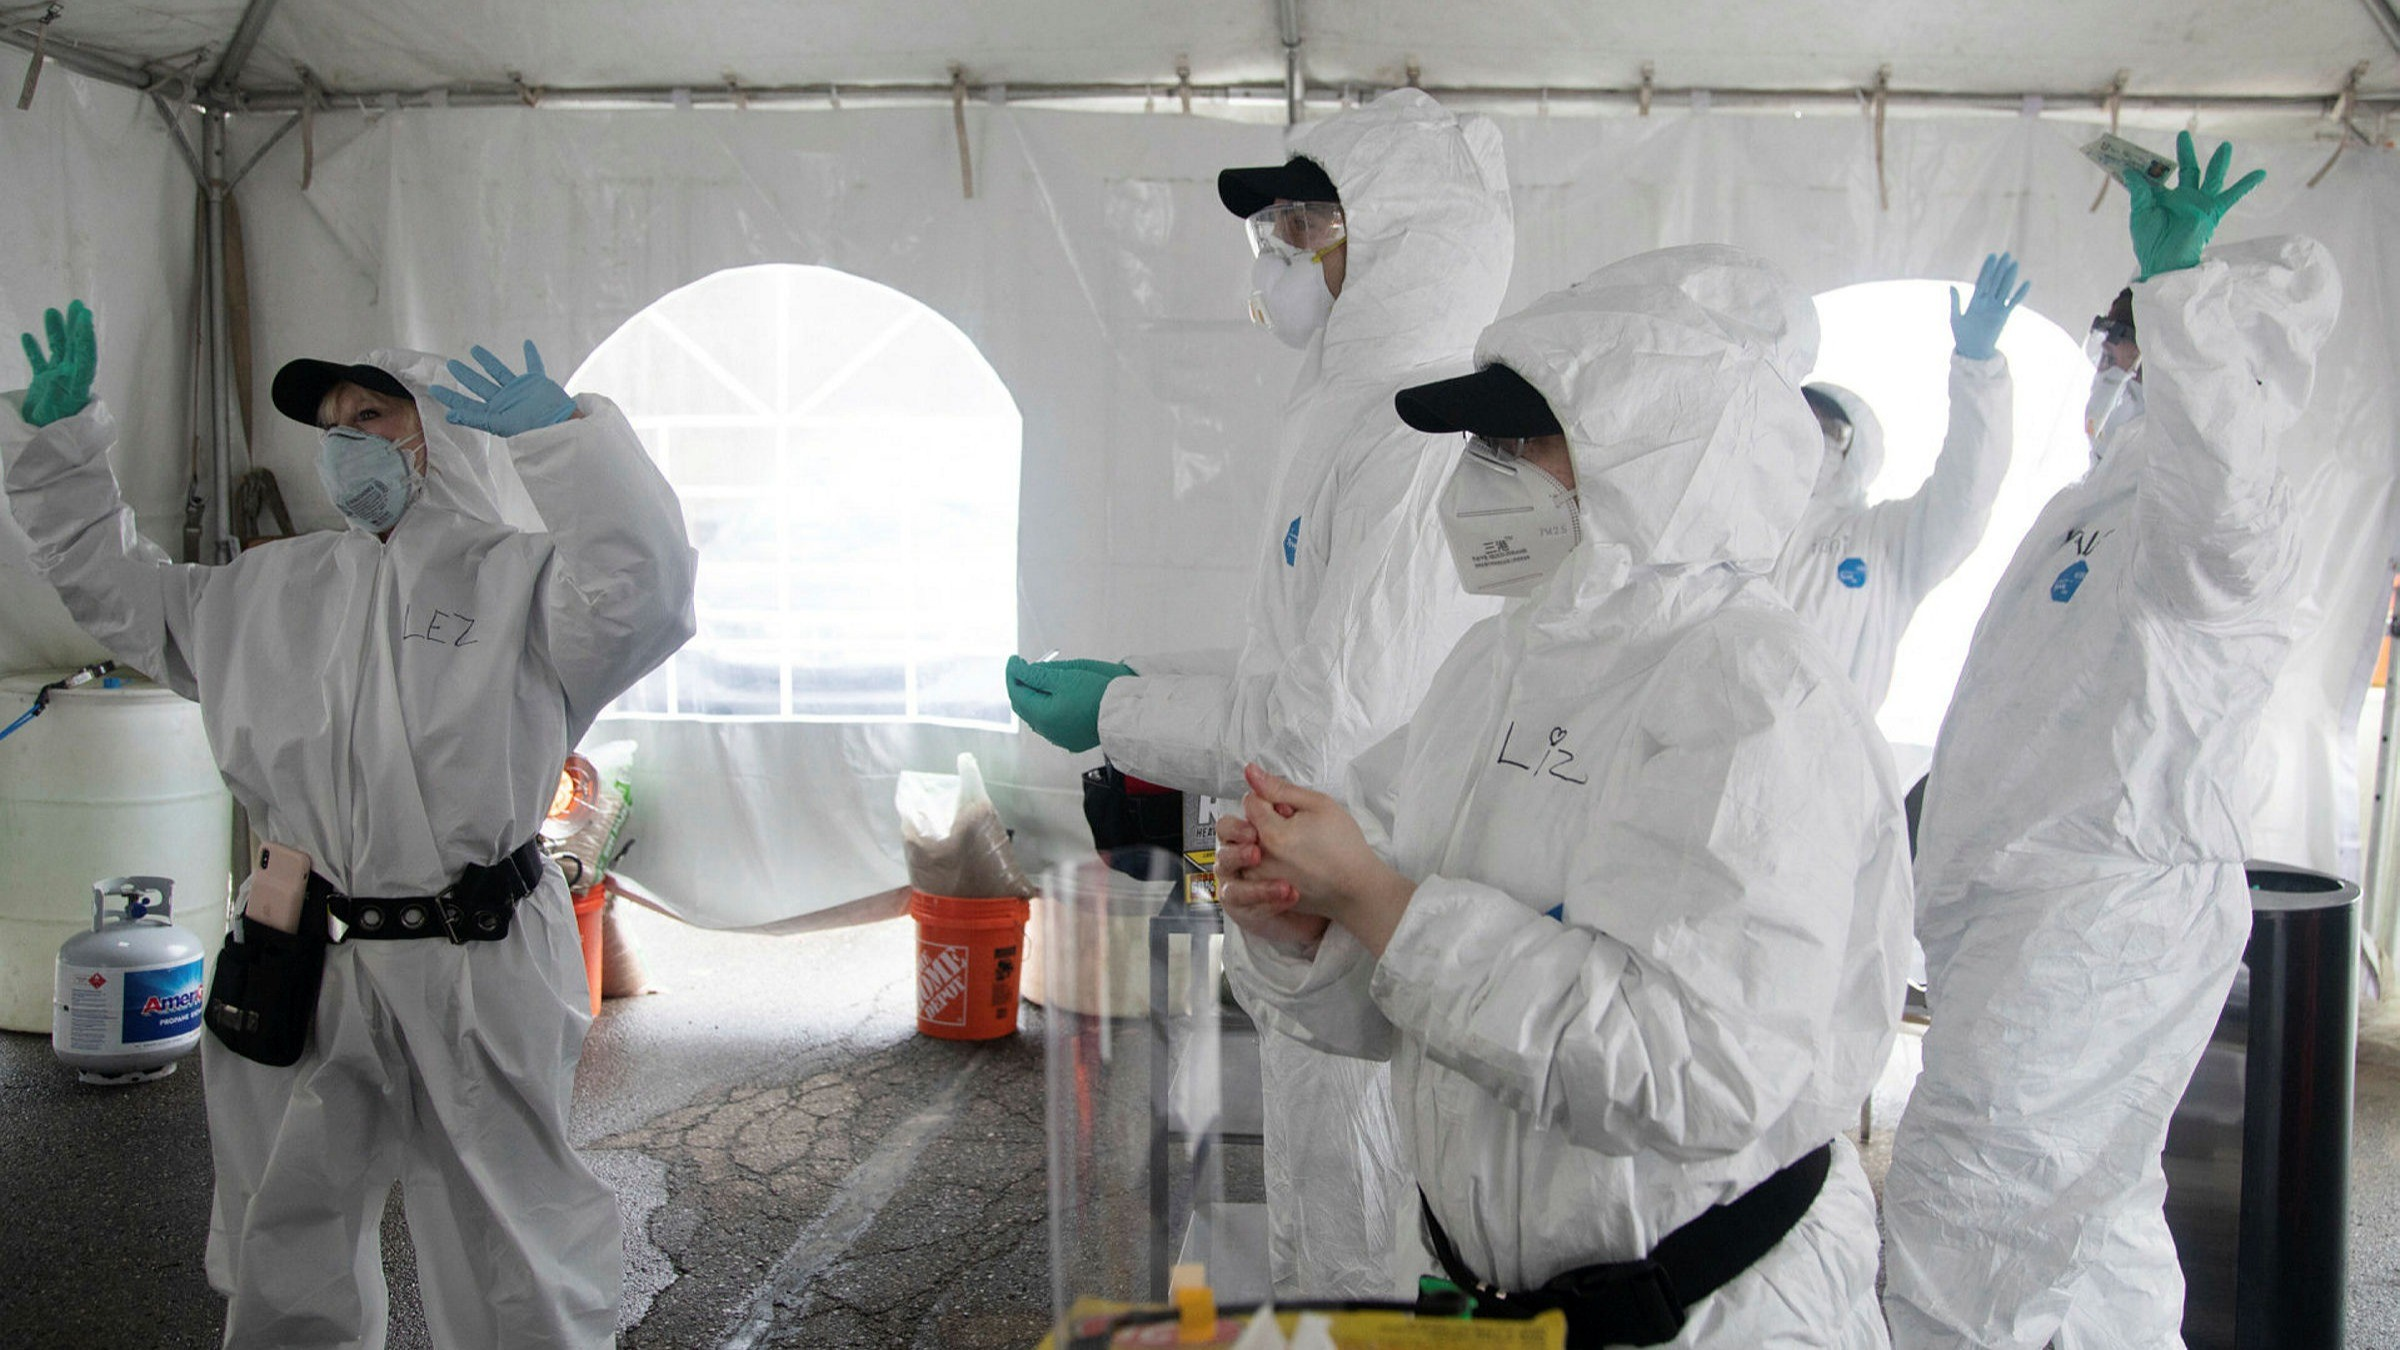Coverall: (2, 422, 702, 1350), (1362, 283, 1910, 1350), (1873, 230, 2347, 1350), (1128, 85, 1470, 1304)
Gloves: (2118, 125, 2265, 280), (426, 338, 573, 443), (997, 651, 1144, 754), (1939, 249, 2031, 359), (15, 301, 99, 422), (1810, 399, 1855, 499)
Goggles: (1236, 196, 1360, 251)
with_mask: (1439, 435, 1584, 604), (307, 385, 420, 543), (1236, 204, 1349, 351), (2073, 314, 2141, 464)
